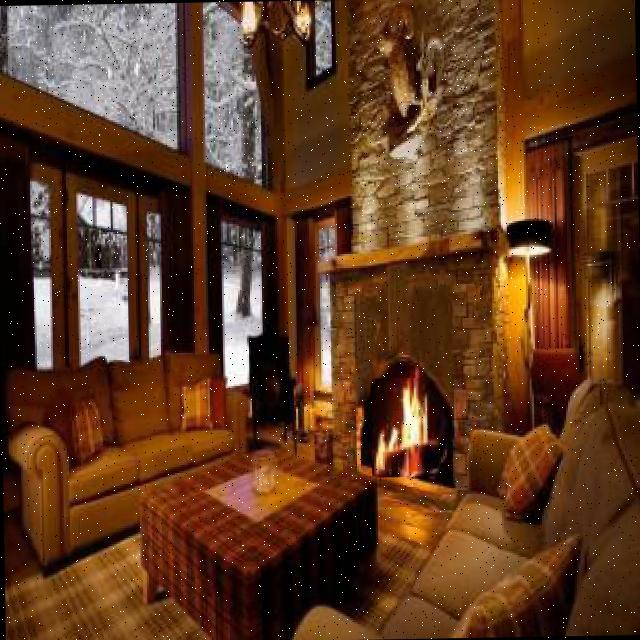fire: (370, 377, 440, 477)
